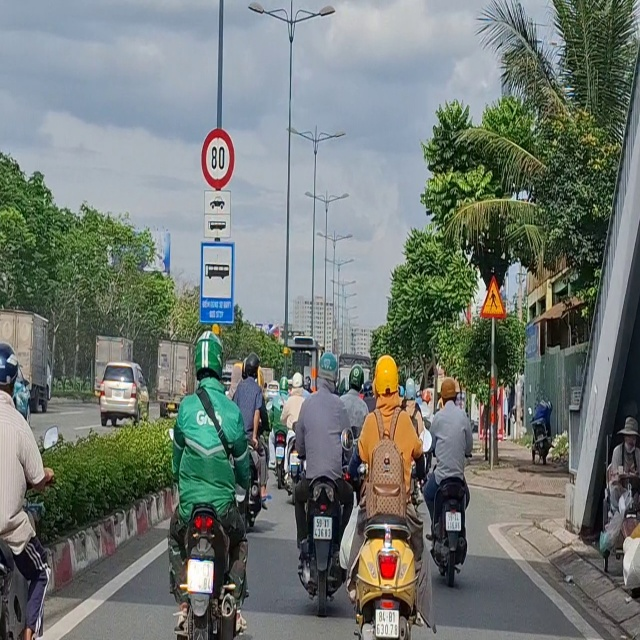nguoi qua duong: (471, 263, 512, 330)
xe buyt: (189, 224, 243, 333)
